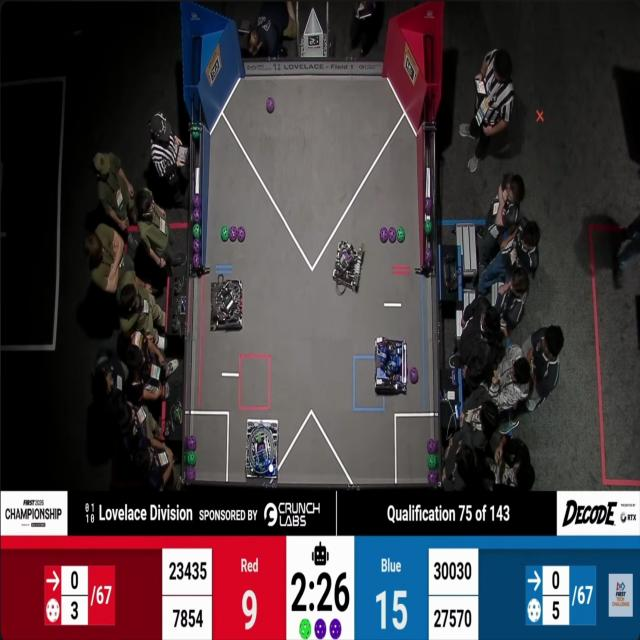artifact_green: (299, 619, 311, 640), (186, 434, 197, 451), (396, 227, 406, 243), (186, 467, 196, 482), (237, 226, 245, 242), (388, 227, 396, 243), (428, 455, 437, 469), (187, 452, 196, 466), (221, 226, 229, 241), (425, 219, 432, 235), (193, 224, 201, 238), (192, 128, 199, 140), (184, 452, 187, 465)
artifact_purple: (315, 619, 326, 639), (330, 619, 341, 639), (425, 196, 433, 216), (425, 247, 433, 267), (186, 467, 196, 482), (187, 435, 196, 450), (428, 470, 438, 483), (380, 227, 388, 243), (428, 439, 436, 454), (237, 227, 245, 242), (410, 368, 418, 383), (230, 226, 237, 242), (193, 208, 201, 222), (193, 254, 201, 268), (389, 227, 396, 243), (193, 239, 201, 253), (267, 97, 274, 113), (193, 194, 201, 207)
